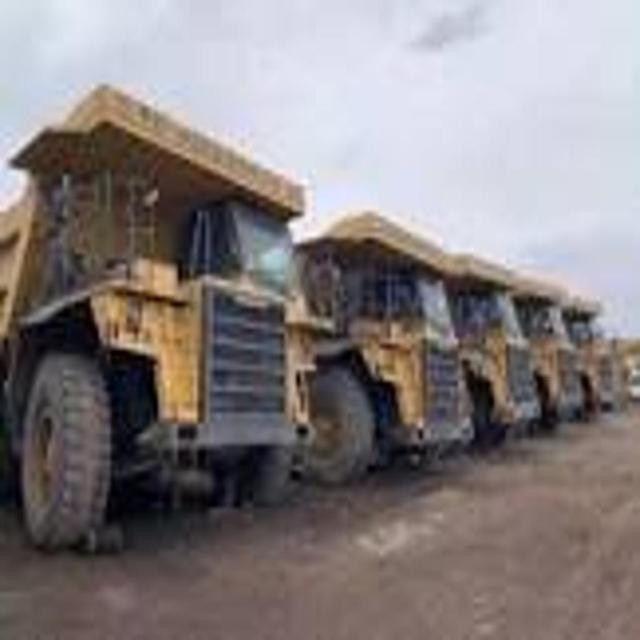dump_truck: (0, 84, 324, 548), (298, 200, 466, 484)
